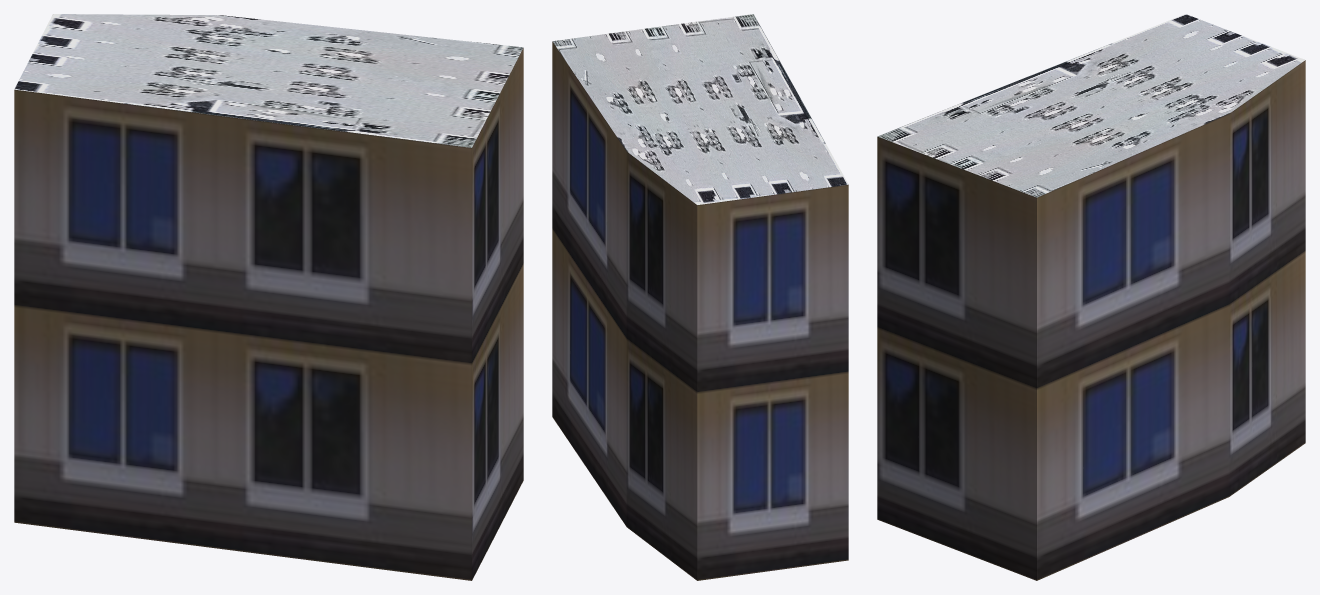
The model's file is ResTex__2988.fbx.
3 renders of one model, left to right at view 1: azimuth 30°, elevation 25°; view 2: azimuth 150°, elevation 25°; view 3: azimuth 270°, elevation 25°, orthographic. The views are drawn at different scales.
Parts seen in each view (by area): view 1: CityEngineMaterial_5_m, CityEngineMaterial_m; view 2: CityEngineMaterial_5_m, CityEngineMaterial_m; view 3: CityEngineMaterial_5_m, CityEngineMaterial_m.
Part boxes in pixels (left/top/right/bottom): CityEngineMaterial_5_m: left=14, top=48, right=523, bottom=580; CityEngineMaterial_m: left=14, top=14, right=523, bottom=147; CityEngineMaterial_5_m: left=552, top=41, right=848, bottom=580; CityEngineMaterial_m: left=552, top=14, right=848, bottom=204; CityEngineMaterial_5_m: left=877, top=60, right=1305, bottom=580; CityEngineMaterial_m: left=877, top=14, right=1304, bottom=197.
Size of the model in its own units: 6.17 by 6 by 6.08.
2 materials, 2 textured.
